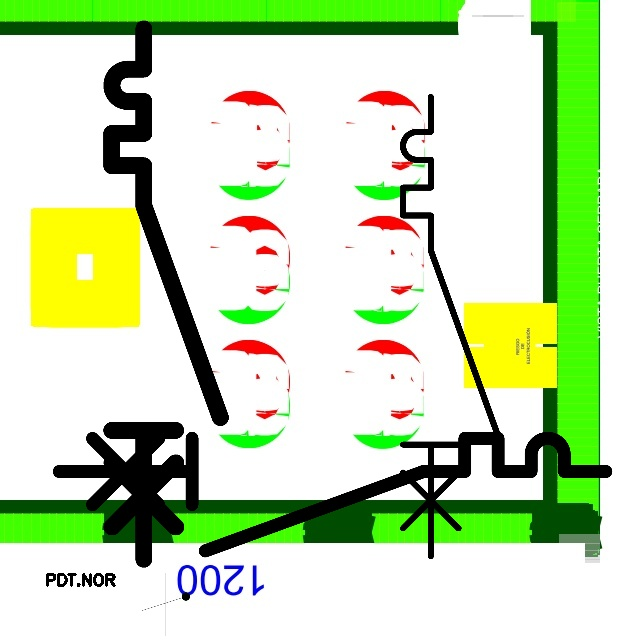interruptor_termomagnetico: (45, 424, 620, 565), (98, 15, 234, 572), (391, 85, 509, 568)
